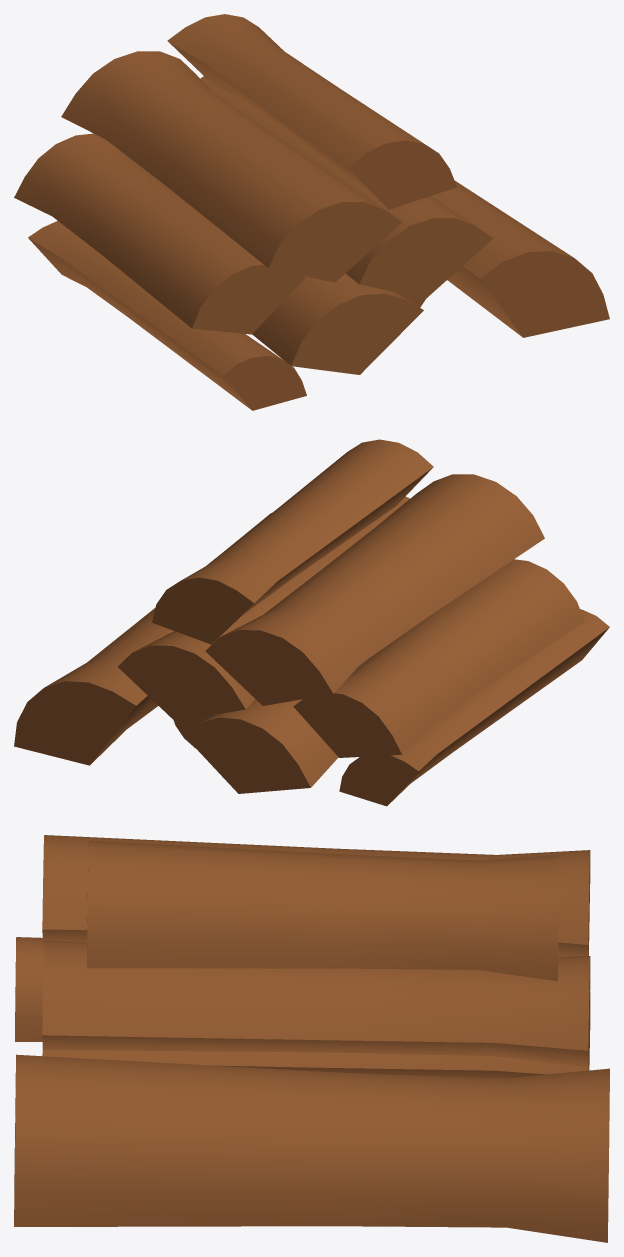
The model's file is SM_chopped_wood.fbx.
The picture shows the model from 3 angles, top to bottom: view 1: azimuth 30°, elevation 25°; view 2: azimuth 150°, elevation 25°; view 3: azimuth 270°, elevation 25°; orthographic projection. The views are drawn at different scales.
Parts seen in each view (by area): view 1: SM_wood.001; view 2: SM_wood.001; view 3: SM_wood.001.
Part boxes in pixels (box(x1,y1,x2,y2)): SM_wood.001: box(14, 14, 609, 410); SM_wood.001: box(14, 439, 609, 806); SM_wood.001: box(14, 835, 609, 1242).
Size of the model in its own units: 47.24 by 25.16 by 48.93.
